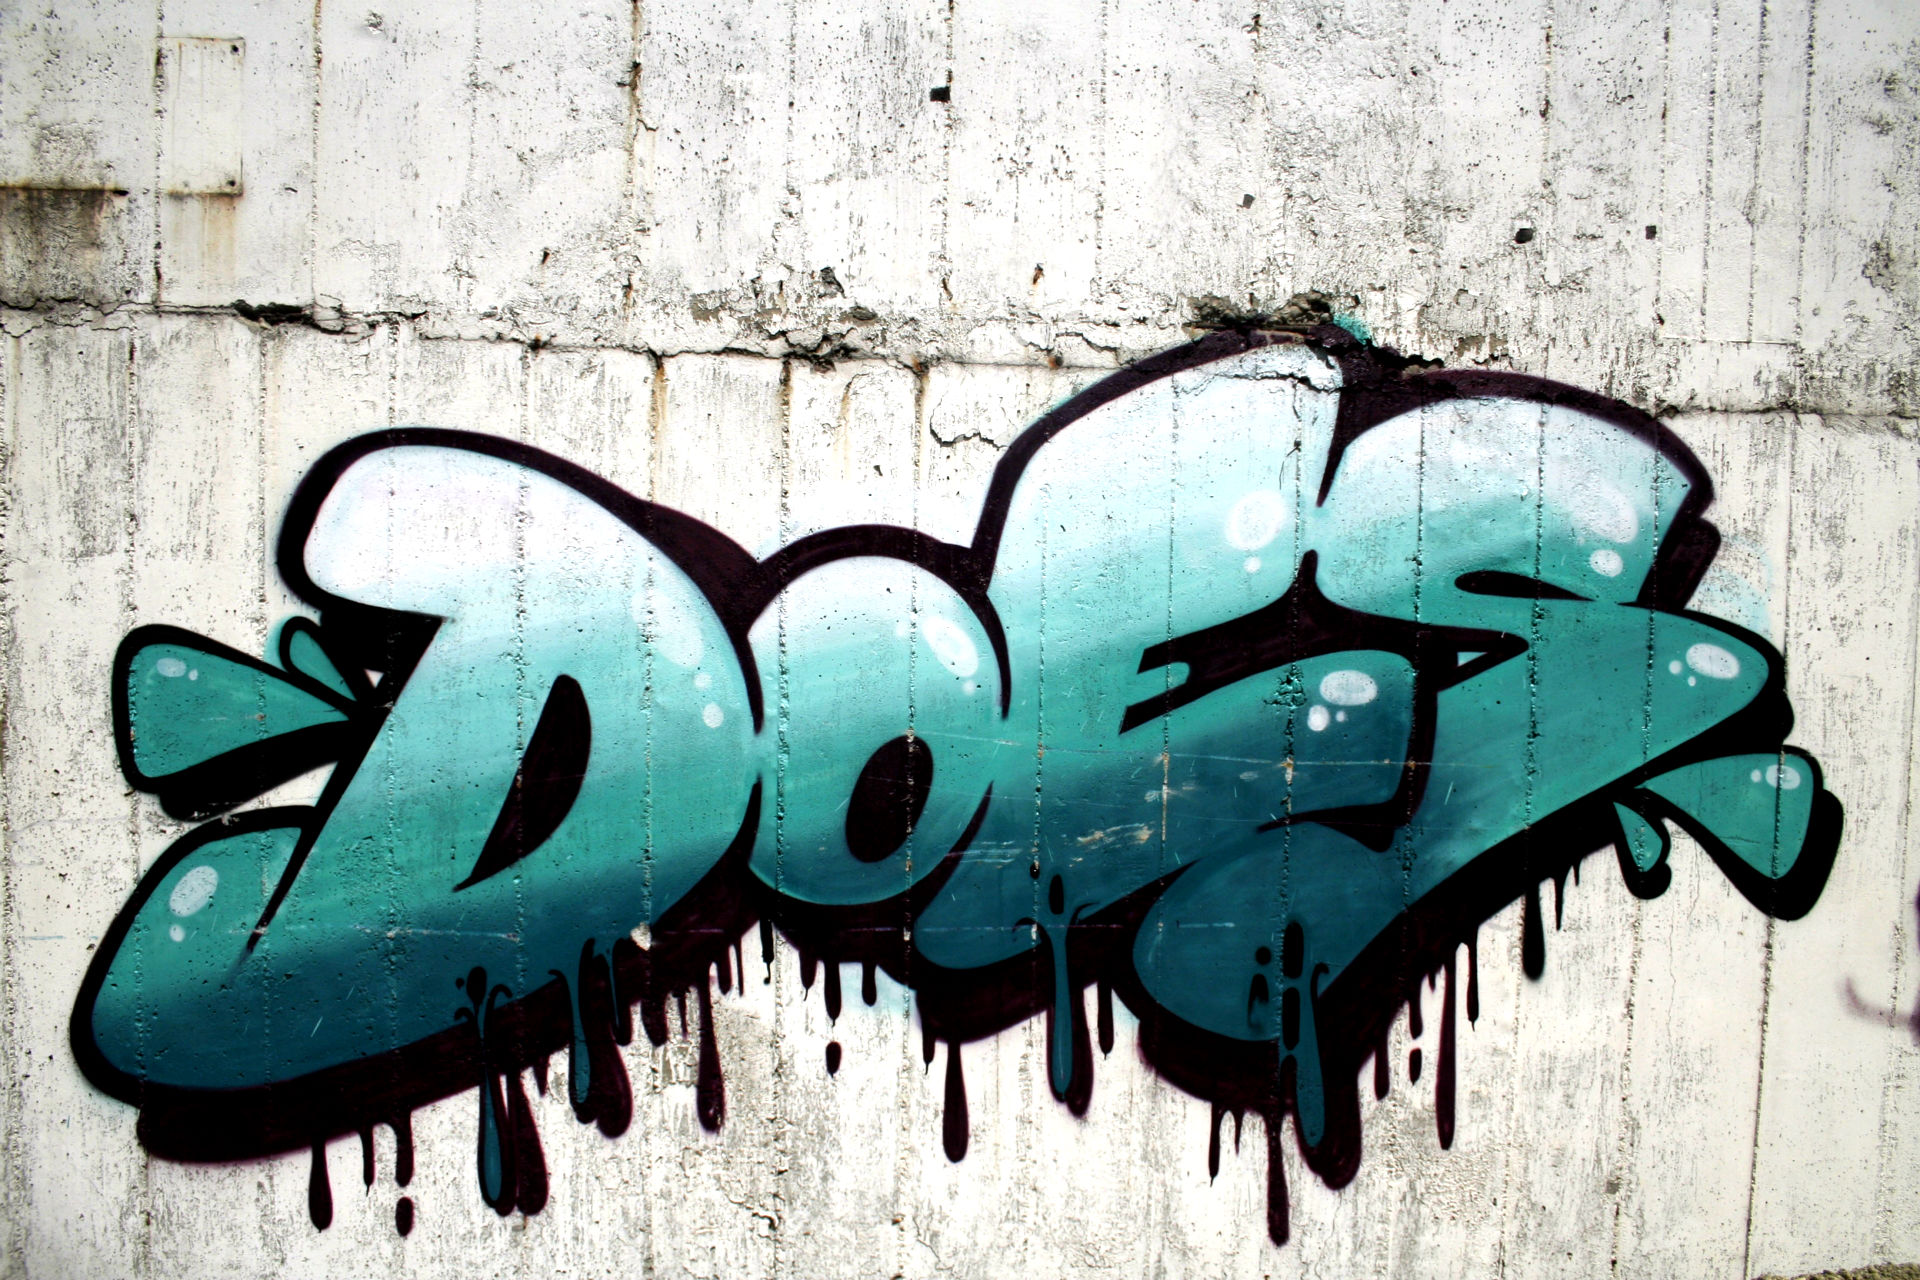graphite: (49, 286, 1857, 1244)
